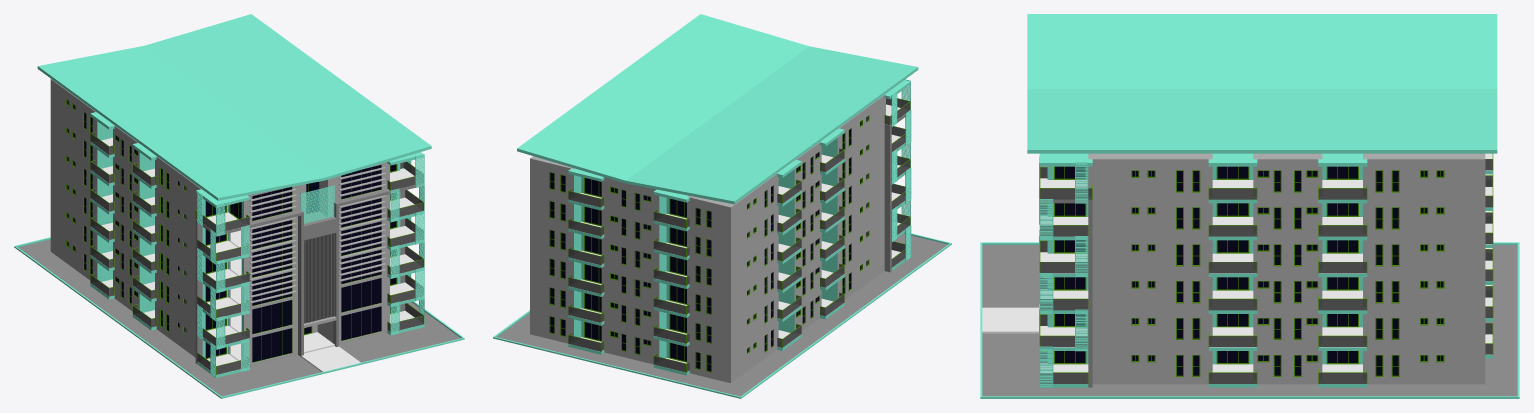
File: Building_14_obj.obj
3 views of the same model, side by side, from view 1: azimuth 30°, elevation 25°; view 2: azimuth 150°, elevation 25°; view 3: azimuth 270°, elevation 25° (orthographic). The views are drawn at different scales.
Visible parts, largest first — view 1: ROOF, WALL, BALCONY, WINDOW, LOUVER, LAND, DOOR, FLOOR; view 2: WALL, ROOF, BALCONY, LAND, WINDOW, DOOR, LOUVER; view 3: ROOF, WALL, BALCONY, LAND, WINDOW, DOOR, LOUVER.
Part boxes in pixels (x1,y1,x2,y2): ROOF: (37, 14, 431, 200); WALL: (50, 79, 400, 371); BALCONY: (90, 112, 424, 377); WINDOW: (66, 99, 381, 362); LOUVER: (197, 154, 424, 377); LAND: (14, 237, 464, 398); DOOR: (205, 164, 397, 358); FLOOR: (230, 230, 241, 360); WALL: (530, 94, 885, 383); ROOF: (517, 14, 918, 206); BALCONY: (568, 80, 910, 375); LAND: (493, 233, 951, 398); WINDOW: (549, 115, 869, 372); DOOR: (584, 177, 686, 362); LOUVER: (891, 79, 911, 260); ROOF: (1027, 14, 1497, 158); WALL: (982, 153, 1485, 384); BALCONY: (1039, 153, 1493, 387); LAND: (980, 242, 1519, 398); WINDOW: (1131, 170, 1444, 376); DOOR: (1054, 166, 1358, 364); LOUVER: (1039, 156, 1088, 387).
Size of the model in its own units: 1080 by 780 by 1591.
